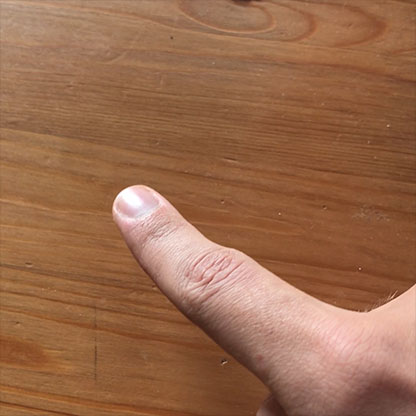fingertip: (111, 181, 170, 232)
